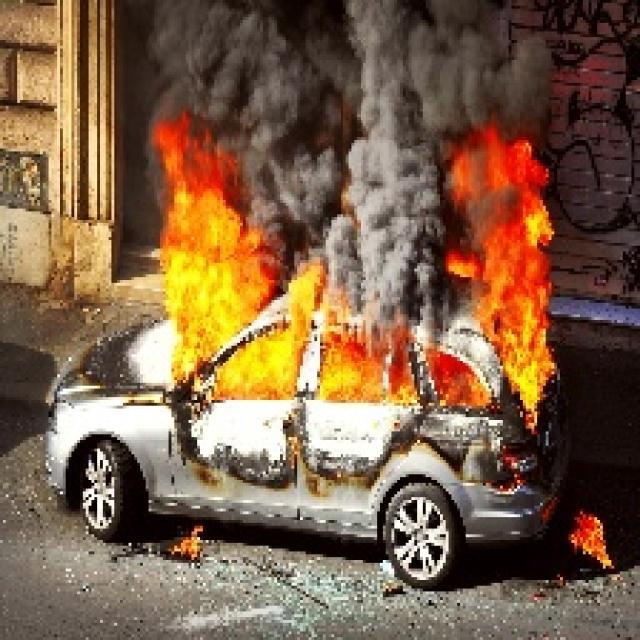Fire: (152, 111, 276, 388), (442, 135, 558, 412), (281, 269, 459, 400), (566, 508, 610, 570)
Smoke: (156, 0, 548, 114), (279, 116, 441, 267)
